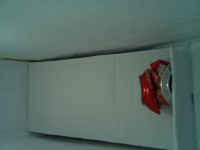kaleng: (138, 59, 173, 116)
